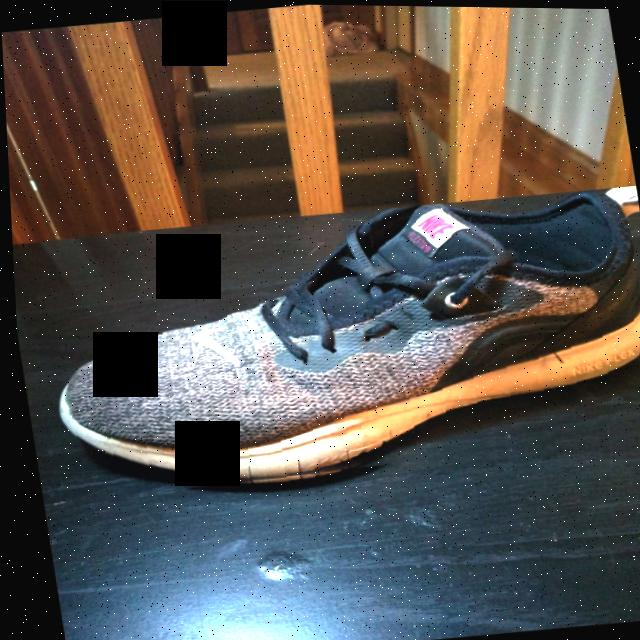shoe: (23, 176, 640, 509)
